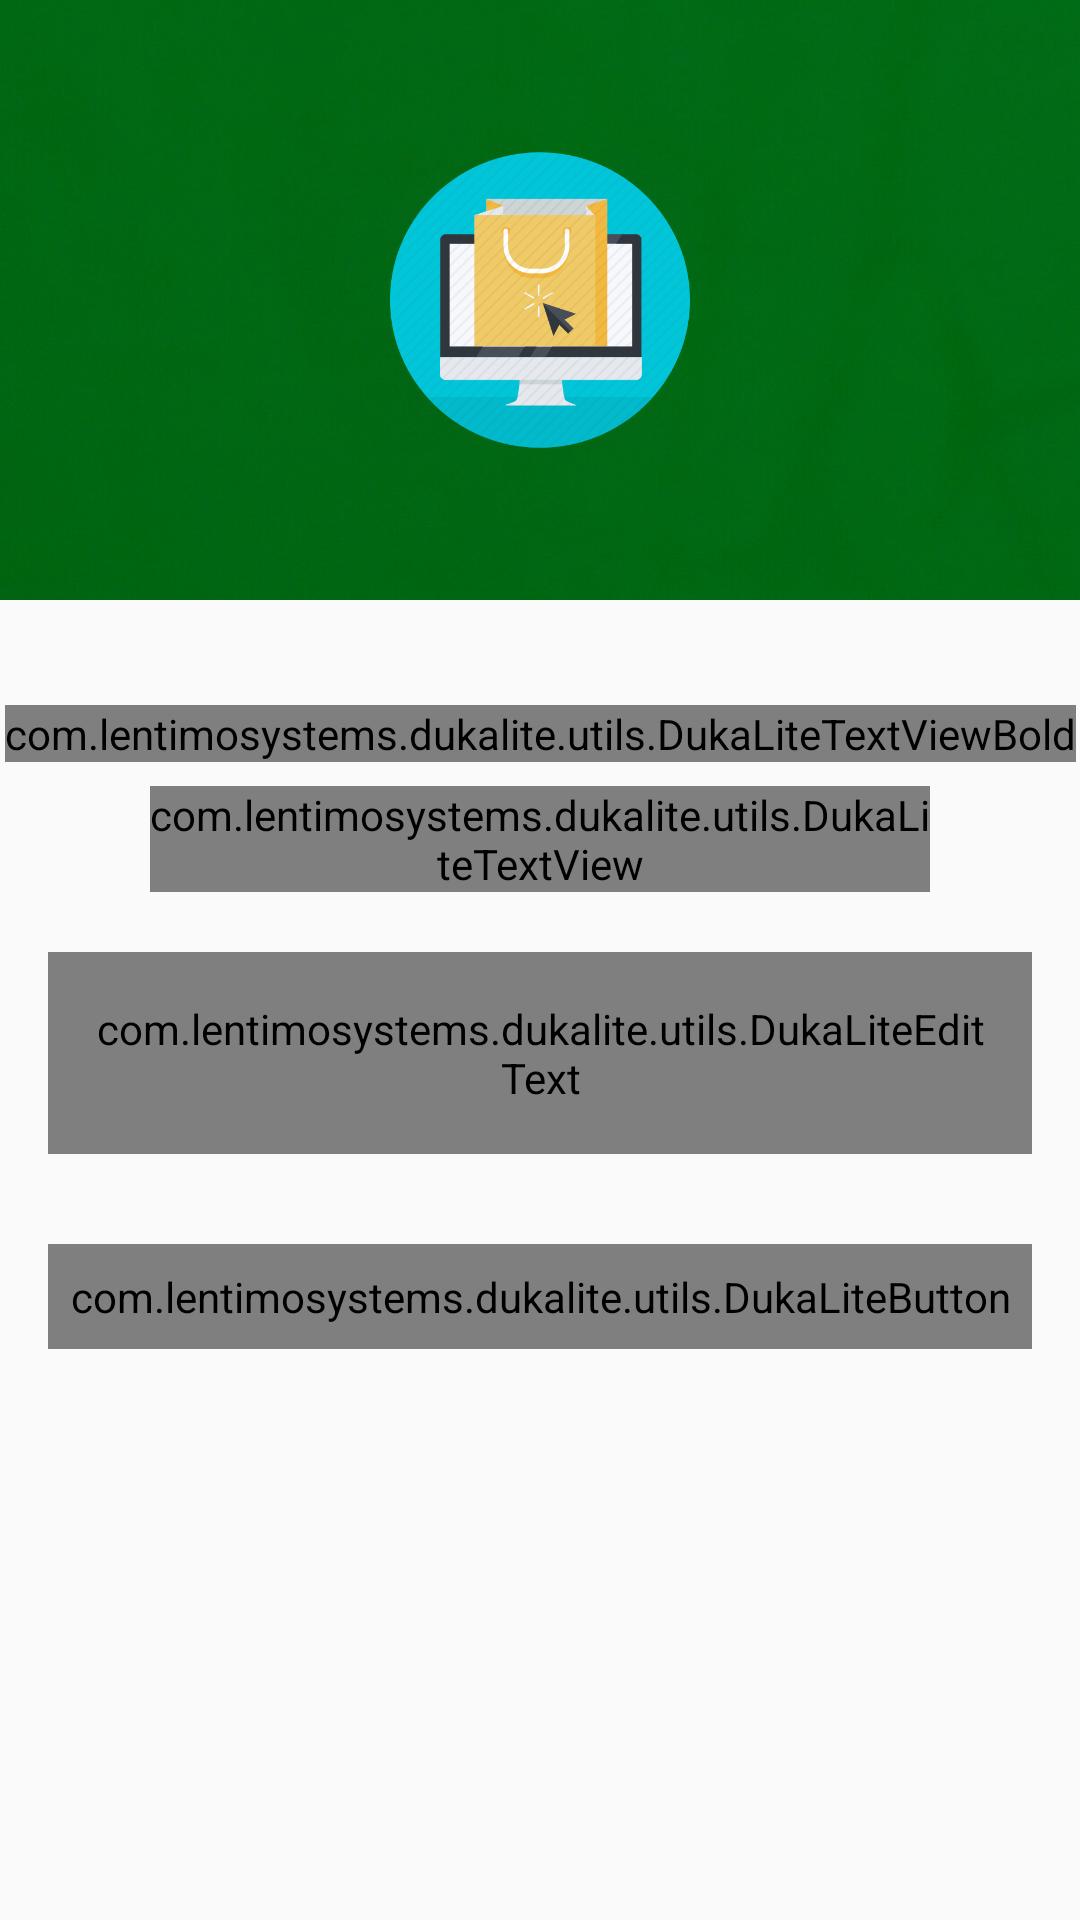

Locate icon controls on the screen. Image size 1080*1920, boxes as (x1, y1, x2, y2).
ecommerce: (390, 152, 690, 448)
